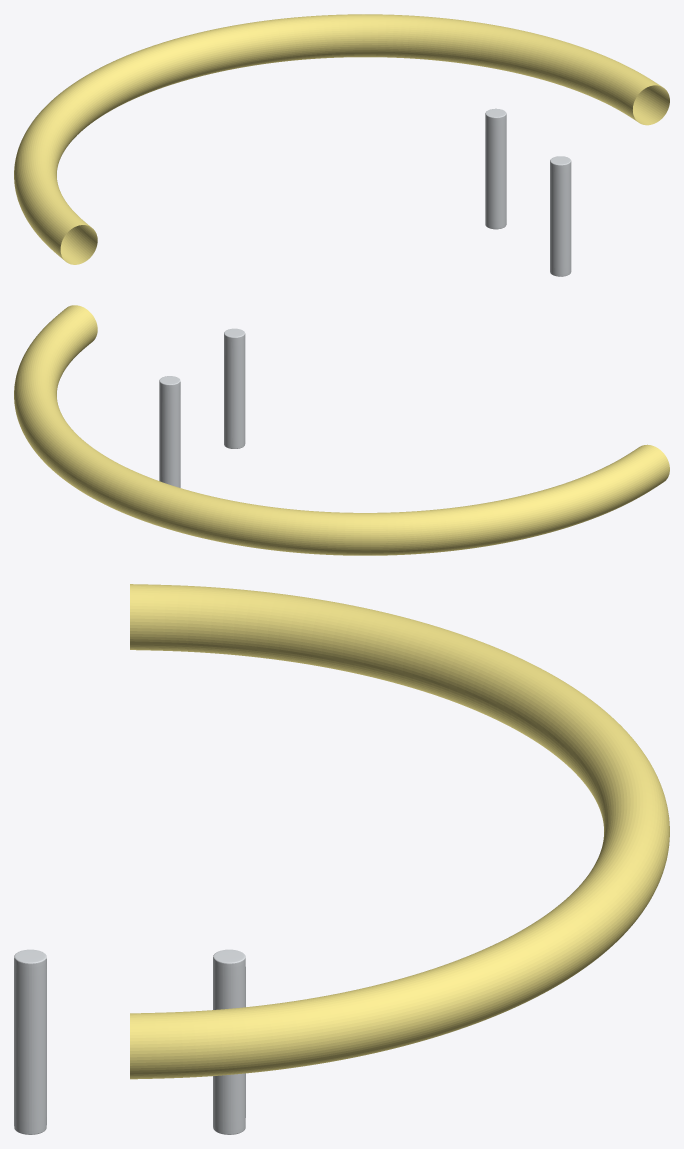
The model's file is Toy_CurvedBench_Hi_2127.fbx.
3 views of the same model, one above another, from view 1: azimuth 30°, elevation 25°; view 2: azimuth 150°, elevation 25°; view 3: azimuth 270°, elevation 25° (orthographic). The views are drawn at different scales.
Visible parts, largest first — view 1: Torus, Cylinder.001, Cylinder; view 2: Torus, Cylinder, Cylinder.001; view 3: Torus, Cylinder, Cylinder.001.
Boxes of the visible parts, bbox=[...] form: Torus: bbox=[14, 14, 669, 264]; Cylinder.001: bbox=[485, 108, 506, 229]; Cylinder: bbox=[550, 156, 571, 276]; Torus: bbox=[14, 305, 669, 555]; Cylinder: bbox=[224, 328, 245, 448]; Cylinder.001: bbox=[159, 376, 180, 487]; Torus: bbox=[130, 584, 669, 1079]; Cylinder: bbox=[14, 949, 46, 1134]; Cylinder.001: bbox=[213, 949, 245, 1134].
Bounding box in the file's own units: 2.56 × 0.533 × 1.55.
